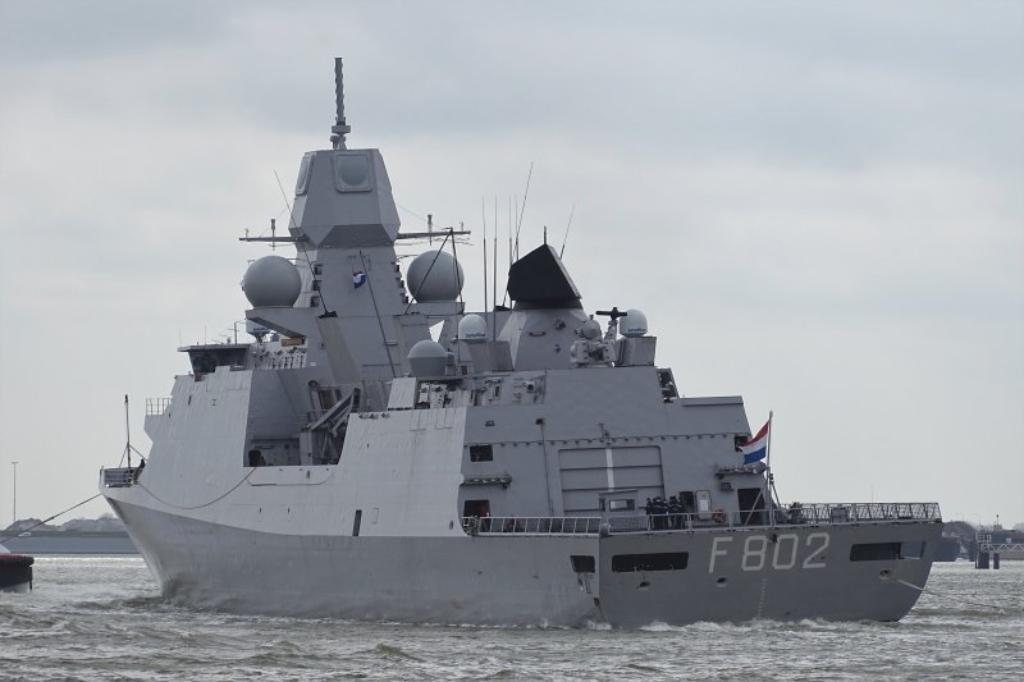Warship: (92, 44, 948, 630)
